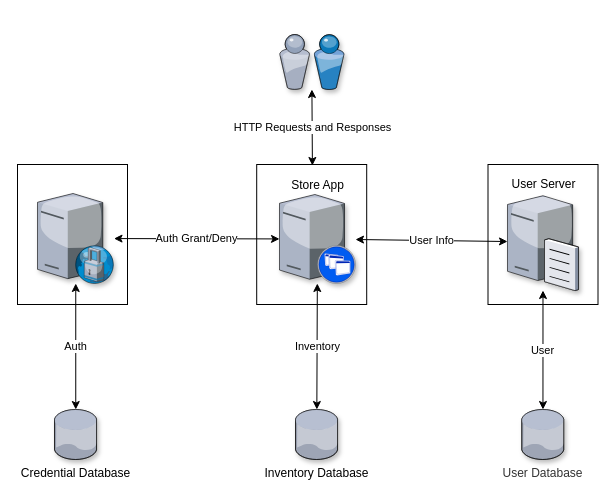
The diagram is 616 pixels wide and 497 high, and some of its shapes have lost their labels. Each missing label, with the centre of its shape:
"Auth Server" goes at pixel 76 239.
"Users" goes at pixel 312 63.
